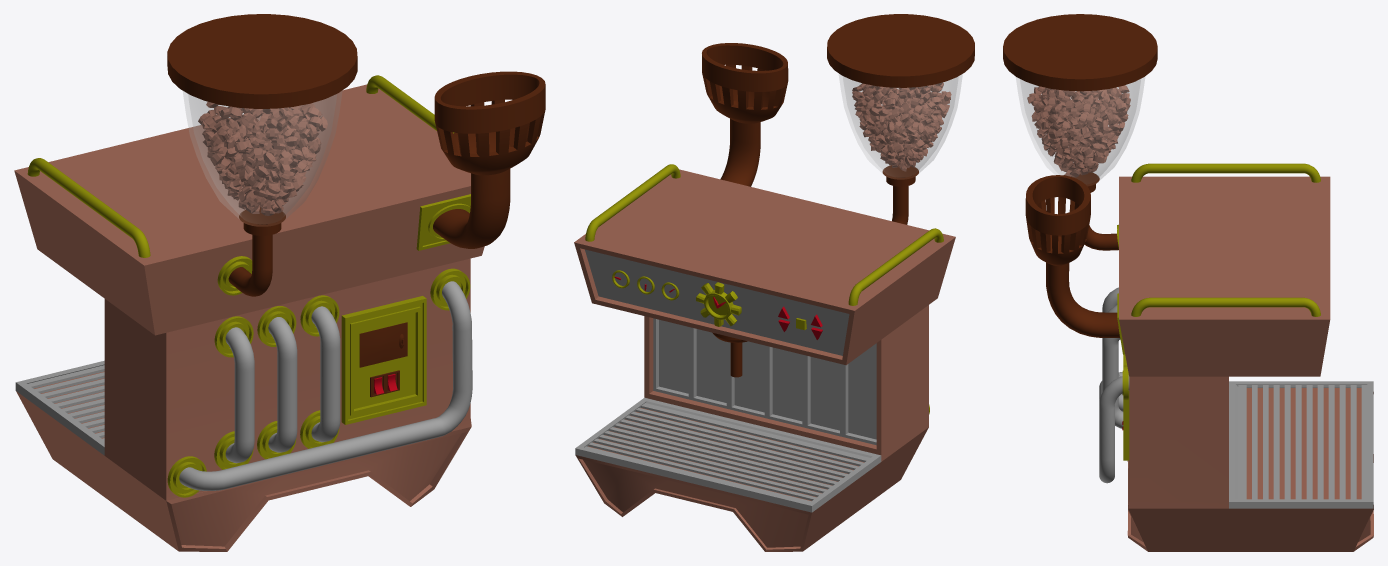
File: cimbali.fbx
3 renders of one model, left to right at view 1: azimuth 30°, elevation 25°; view 2: azimuth 150°, elevation 25°; view 3: azimuth 270°, elevation 25°, orthographic. The views are drawn at different scales.
Parts seen in each view (by area): view 1: cimbali; view 2: cimbali; view 3: cimbali.
Boxes of the visible parts, <box> form: cimbali: <box>14,14,545,551</box>; cimbali: <box>574,14,974,551</box>; cimbali: <box>1003,14,1373,551</box>.
Size of the model in its own units: 268 by 368 by 294.
